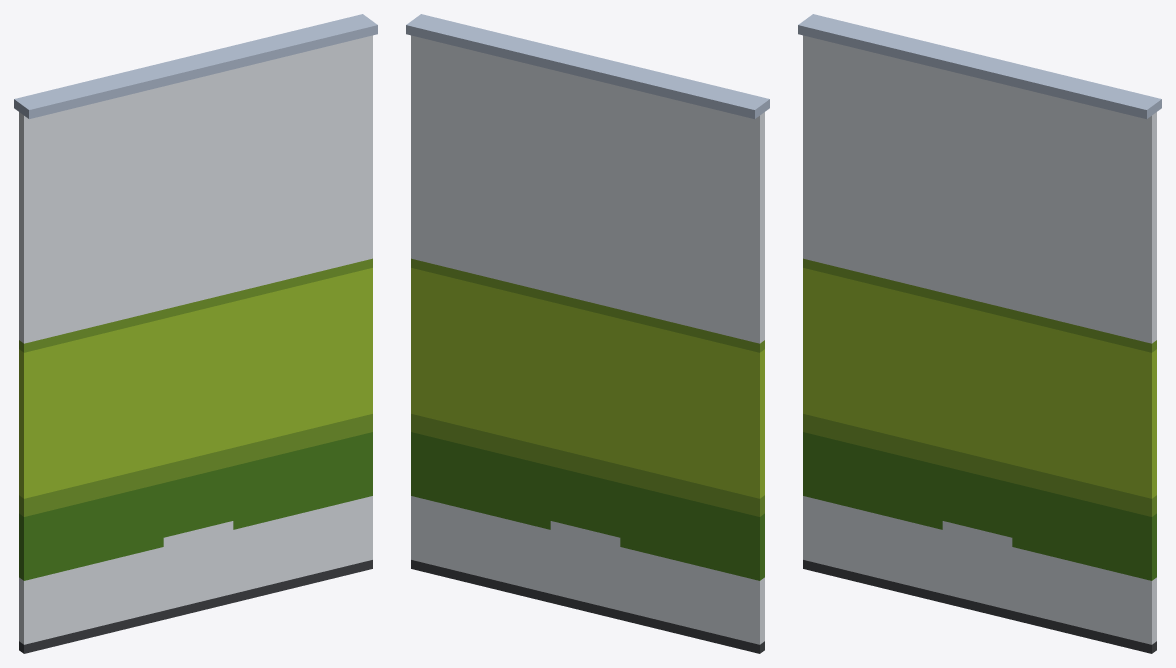
Rendered from wall-hallway.obj.
The picture shows the model from 3 angles, left to right: view 1: azimuth 30°, elevation 25°; view 2: azimuth 150°, elevation 25°; view 3: azimuth 330°, elevation 25°; orthographic projection.
Size of the model in its own units: 4 by 6 by 0.3.
1 material, 1 textured.
